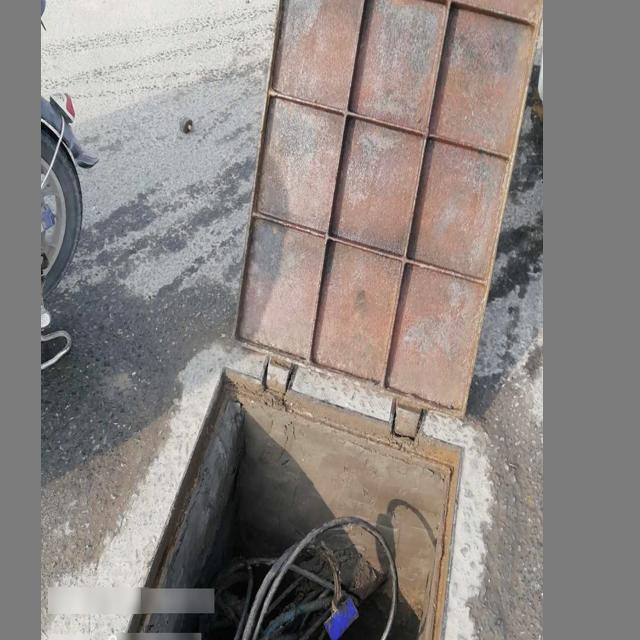uncovered: (47, 0, 543, 640)
